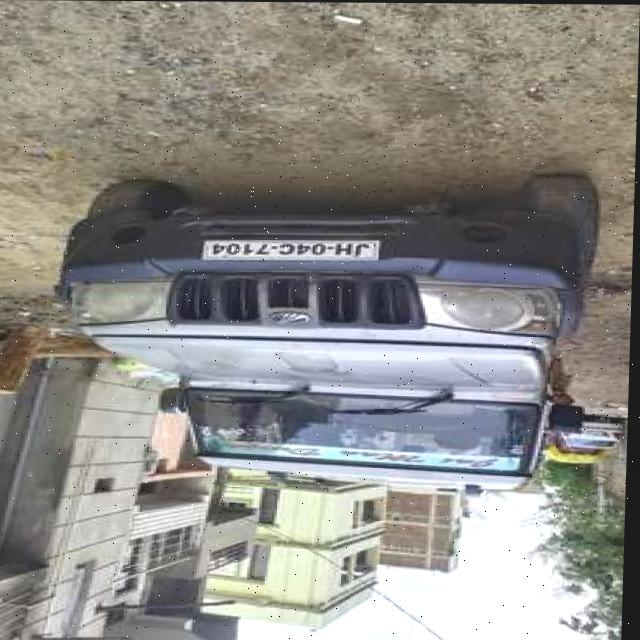plate: (204, 240, 382, 261)
